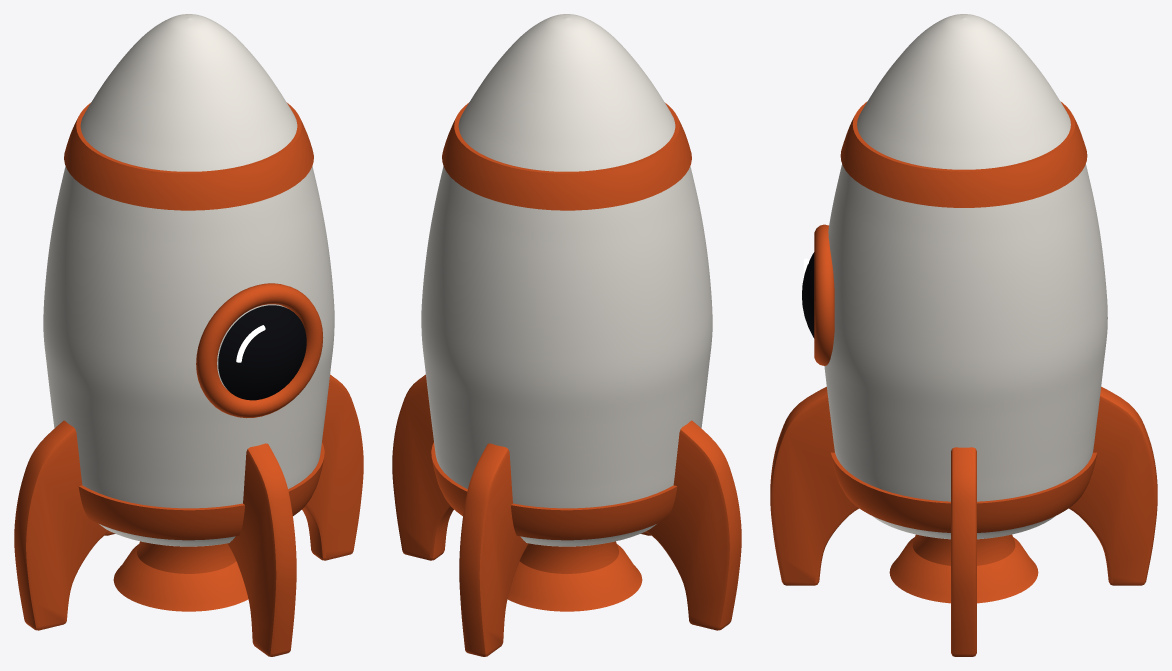
The model's file is space_rocket.glb.
3 renders of one model, left to right at view 1: azimuth 30°, elevation 25°; view 2: azimuth 150°, elevation 25°; view 3: azimuth 270°, elevation 25°, orthographic.
Visible parts, largest first — view 1: body, fin3, band_top, fin0, nozzle, fin1, window_ring, window_glass, band_low; view 2: body, fin3, band_top, fin2, nozzle, fin1, band_low; view 3: body, fin0, fin2, band_top, band_low, nozzle, fin1, window_ring, window_glass.
Part boxes in pixels (left/top/right/bottom): body: left=43, top=14, right=334, bottom=546; fin3: left=14, top=420, right=109, bottom=630; band_top: left=64, top=103, right=313, bottom=210; fin0: left=227, top=443, right=296, bottom=656; nozzle: left=113, top=541, right=248, bottom=611; fin1: left=302, top=374, right=363, bottom=560; window_ring: left=196, top=283, right=323, bottom=418; window_glass: left=218, top=305, right=306, bottom=400; band_low: left=78, top=442, right=324, bottom=540; body: left=421, top=14, right=712, bottom=546; fin3: left=646, top=420, right=741, bottom=630; band_top: left=442, top=103, right=691, bottom=210; fin2: left=459, top=443, right=528, bottom=656; nozzle: left=507, top=541, right=642, bottom=611; fin1: left=392, top=374, right=453, bottom=560; band_low: left=431, top=442, right=677, bottom=540; body: left=824, top=14, right=1107, bottom=539; fin0: left=770, top=387, right=858, bottom=585; fin2: left=1069, top=387, right=1157, bottom=585; band_top: left=840, top=102, right=1087, bottom=207; band_low: left=831, top=452, right=1096, bottom=532; nozzle: left=889, top=534, right=1038, bottom=603; fin1: left=951, top=447, right=976, bottom=656; window_ring: left=814, top=224, right=834, bottom=365; window_glass: left=802, top=252, right=814, bottom=338.
Bounding box in the file's own units: 2.24 × 3.6 × 2.24.
